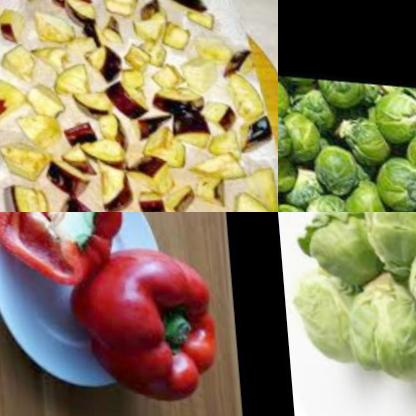bell pepper: (72, 234, 227, 402), (0, 212, 128, 284)
brus capusta: (278, 53, 416, 212), (331, 285, 416, 386), (294, 212, 392, 289), (285, 264, 355, 356), (345, 212, 416, 270), (384, 216, 416, 335)
eggplant: (0, 0, 274, 212)
